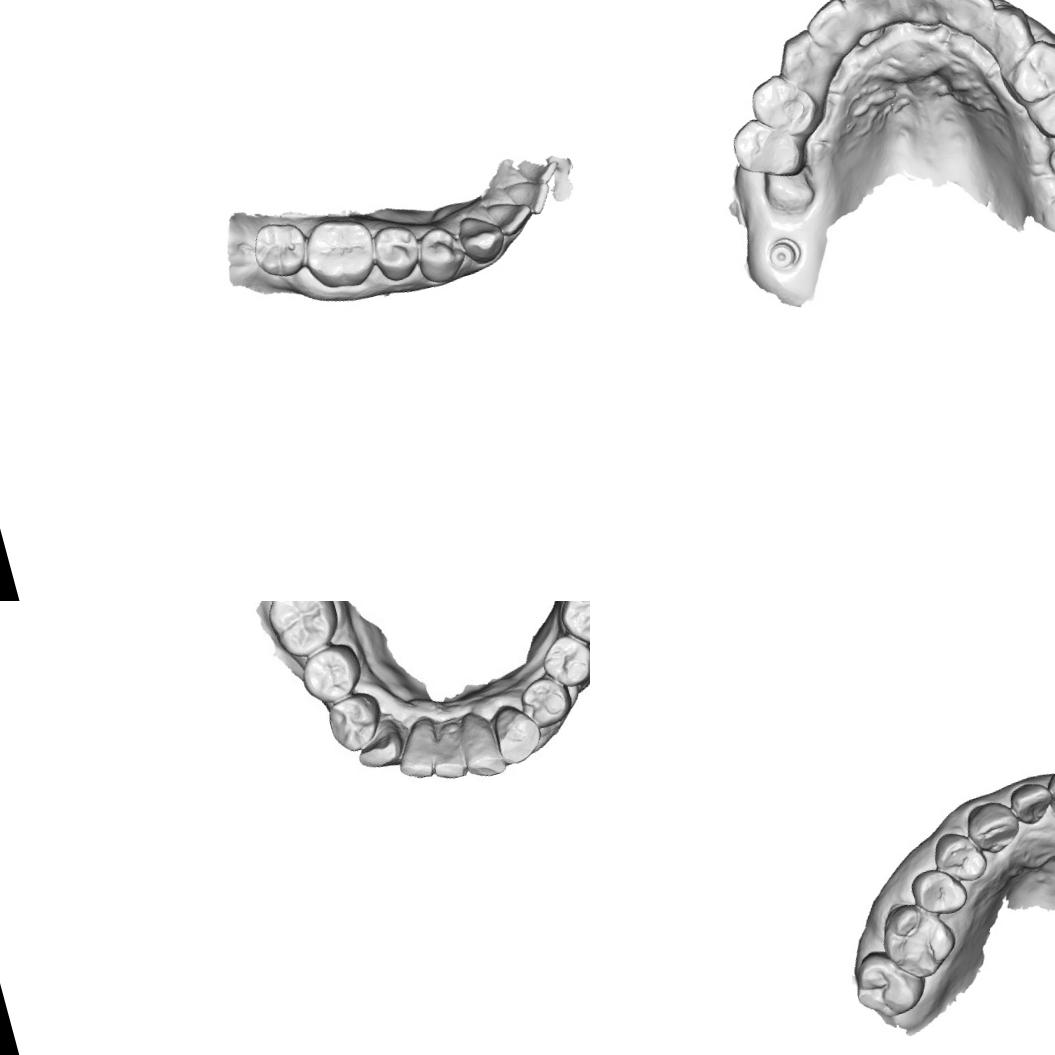canine: (767, 23, 833, 90), (960, 794, 1025, 859), (486, 698, 545, 769), (452, 206, 510, 269), (985, 0, 1039, 59), (354, 727, 402, 774)
implant: (762, 230, 805, 275)
incisor: (797, 0, 861, 61), (458, 710, 508, 778), (422, 714, 473, 780), (392, 722, 441, 782), (499, 172, 557, 222), (1005, 776, 1055, 829), (482, 193, 537, 241), (837, 0, 910, 35), (512, 150, 563, 190), (945, 0, 997, 34), (894, 0, 956, 25)
molar: (871, 890, 964, 988), (844, 939, 932, 1025), (297, 208, 382, 297), (245, 212, 314, 284), (261, 601, 344, 659), (550, 601, 590, 649)
premolar: (724, 106, 811, 188), (742, 65, 823, 145), (299, 640, 370, 708), (408, 218, 472, 288), (365, 216, 428, 286), (998, 30, 1055, 107), (324, 691, 390, 756), (904, 860, 972, 923), (928, 824, 992, 889), (516, 674, 572, 728), (541, 632, 590, 690), (1020, 73, 1055, 146)
